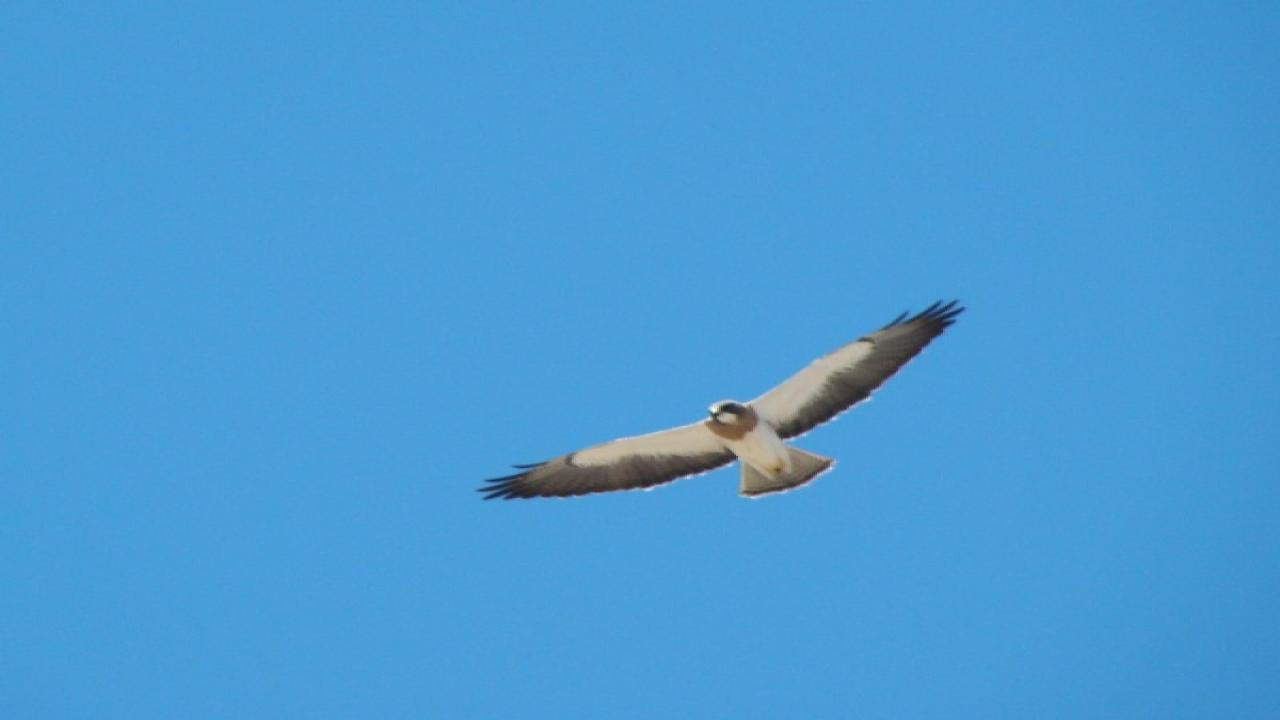Bird: (461, 292, 980, 509)
